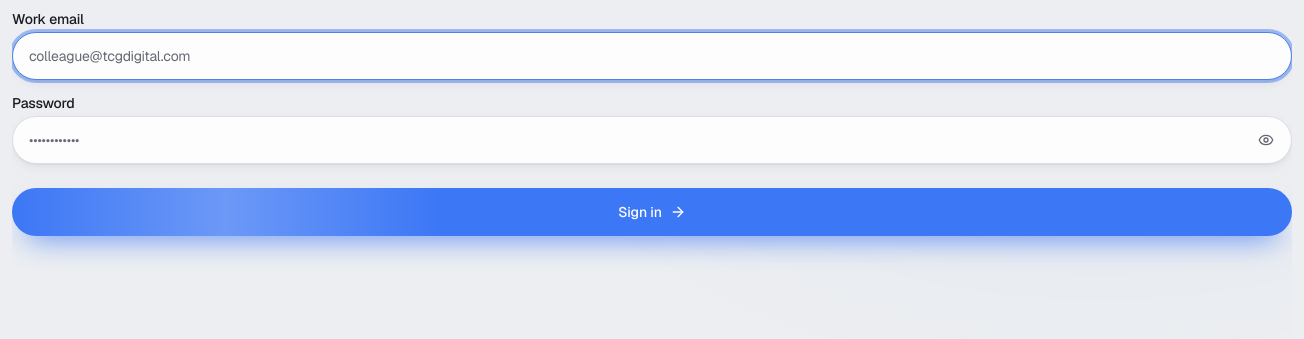
LoginForm › shows the backend message when the password is wrong
In the field labelled "Work email": (652, 56) [12,32,1292,80], type "tcg@tcgdigital.com"
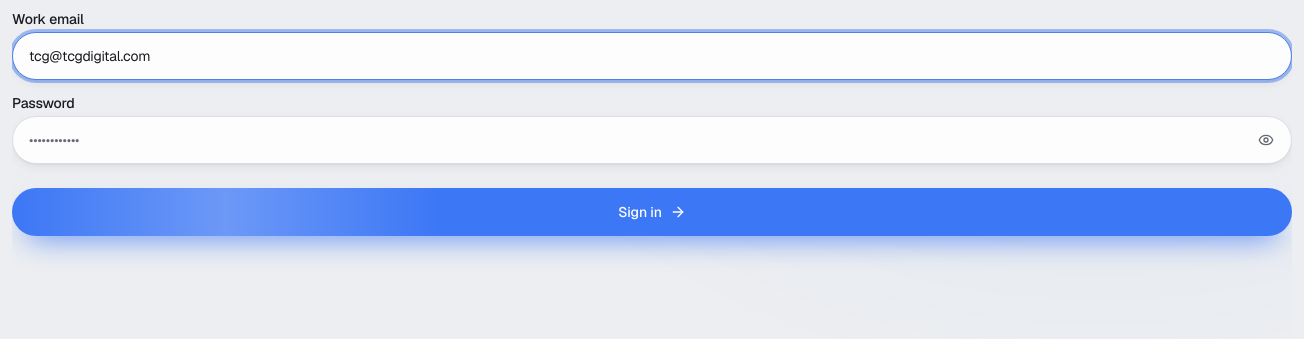
In the password field labelled "Password": (652, 140) [12,116,1292,164], type "wrong-password"
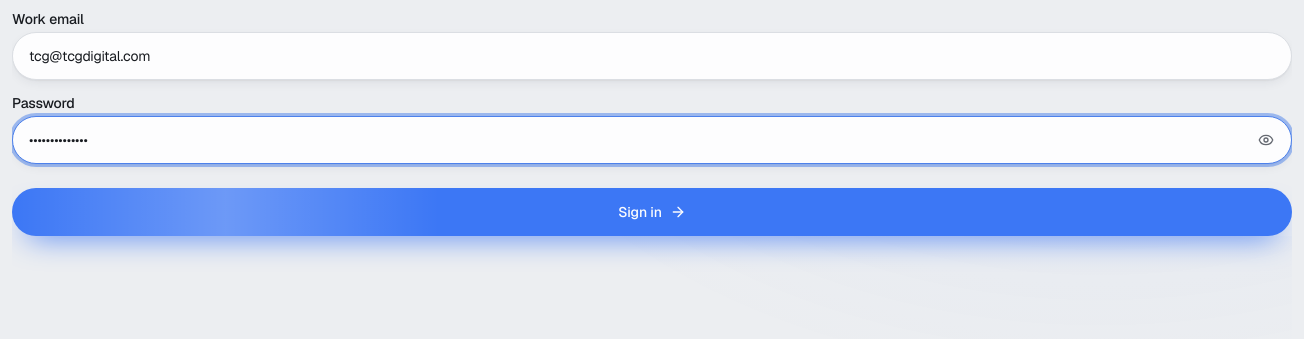
Click the button "Sign in": (652, 212) [12,188,1292,236]
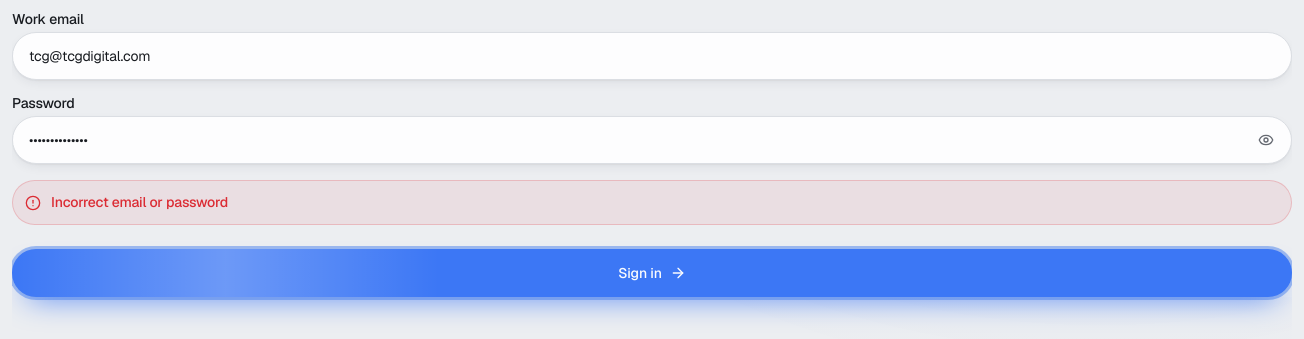
Expected: the message reads "Incorrect email or password", [51,193,228,211]
